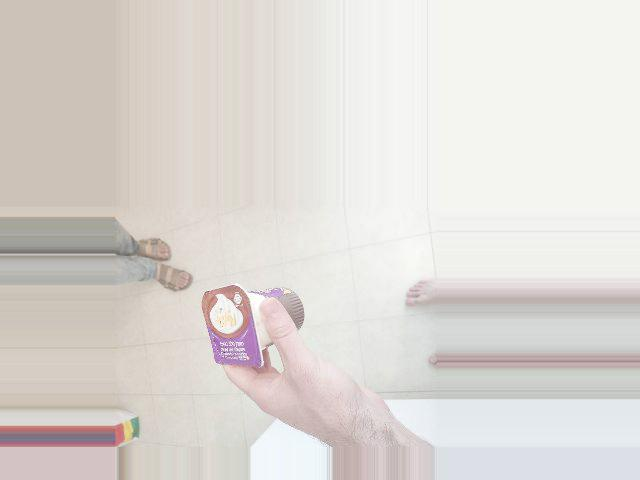milky: (202, 285, 312, 364)
